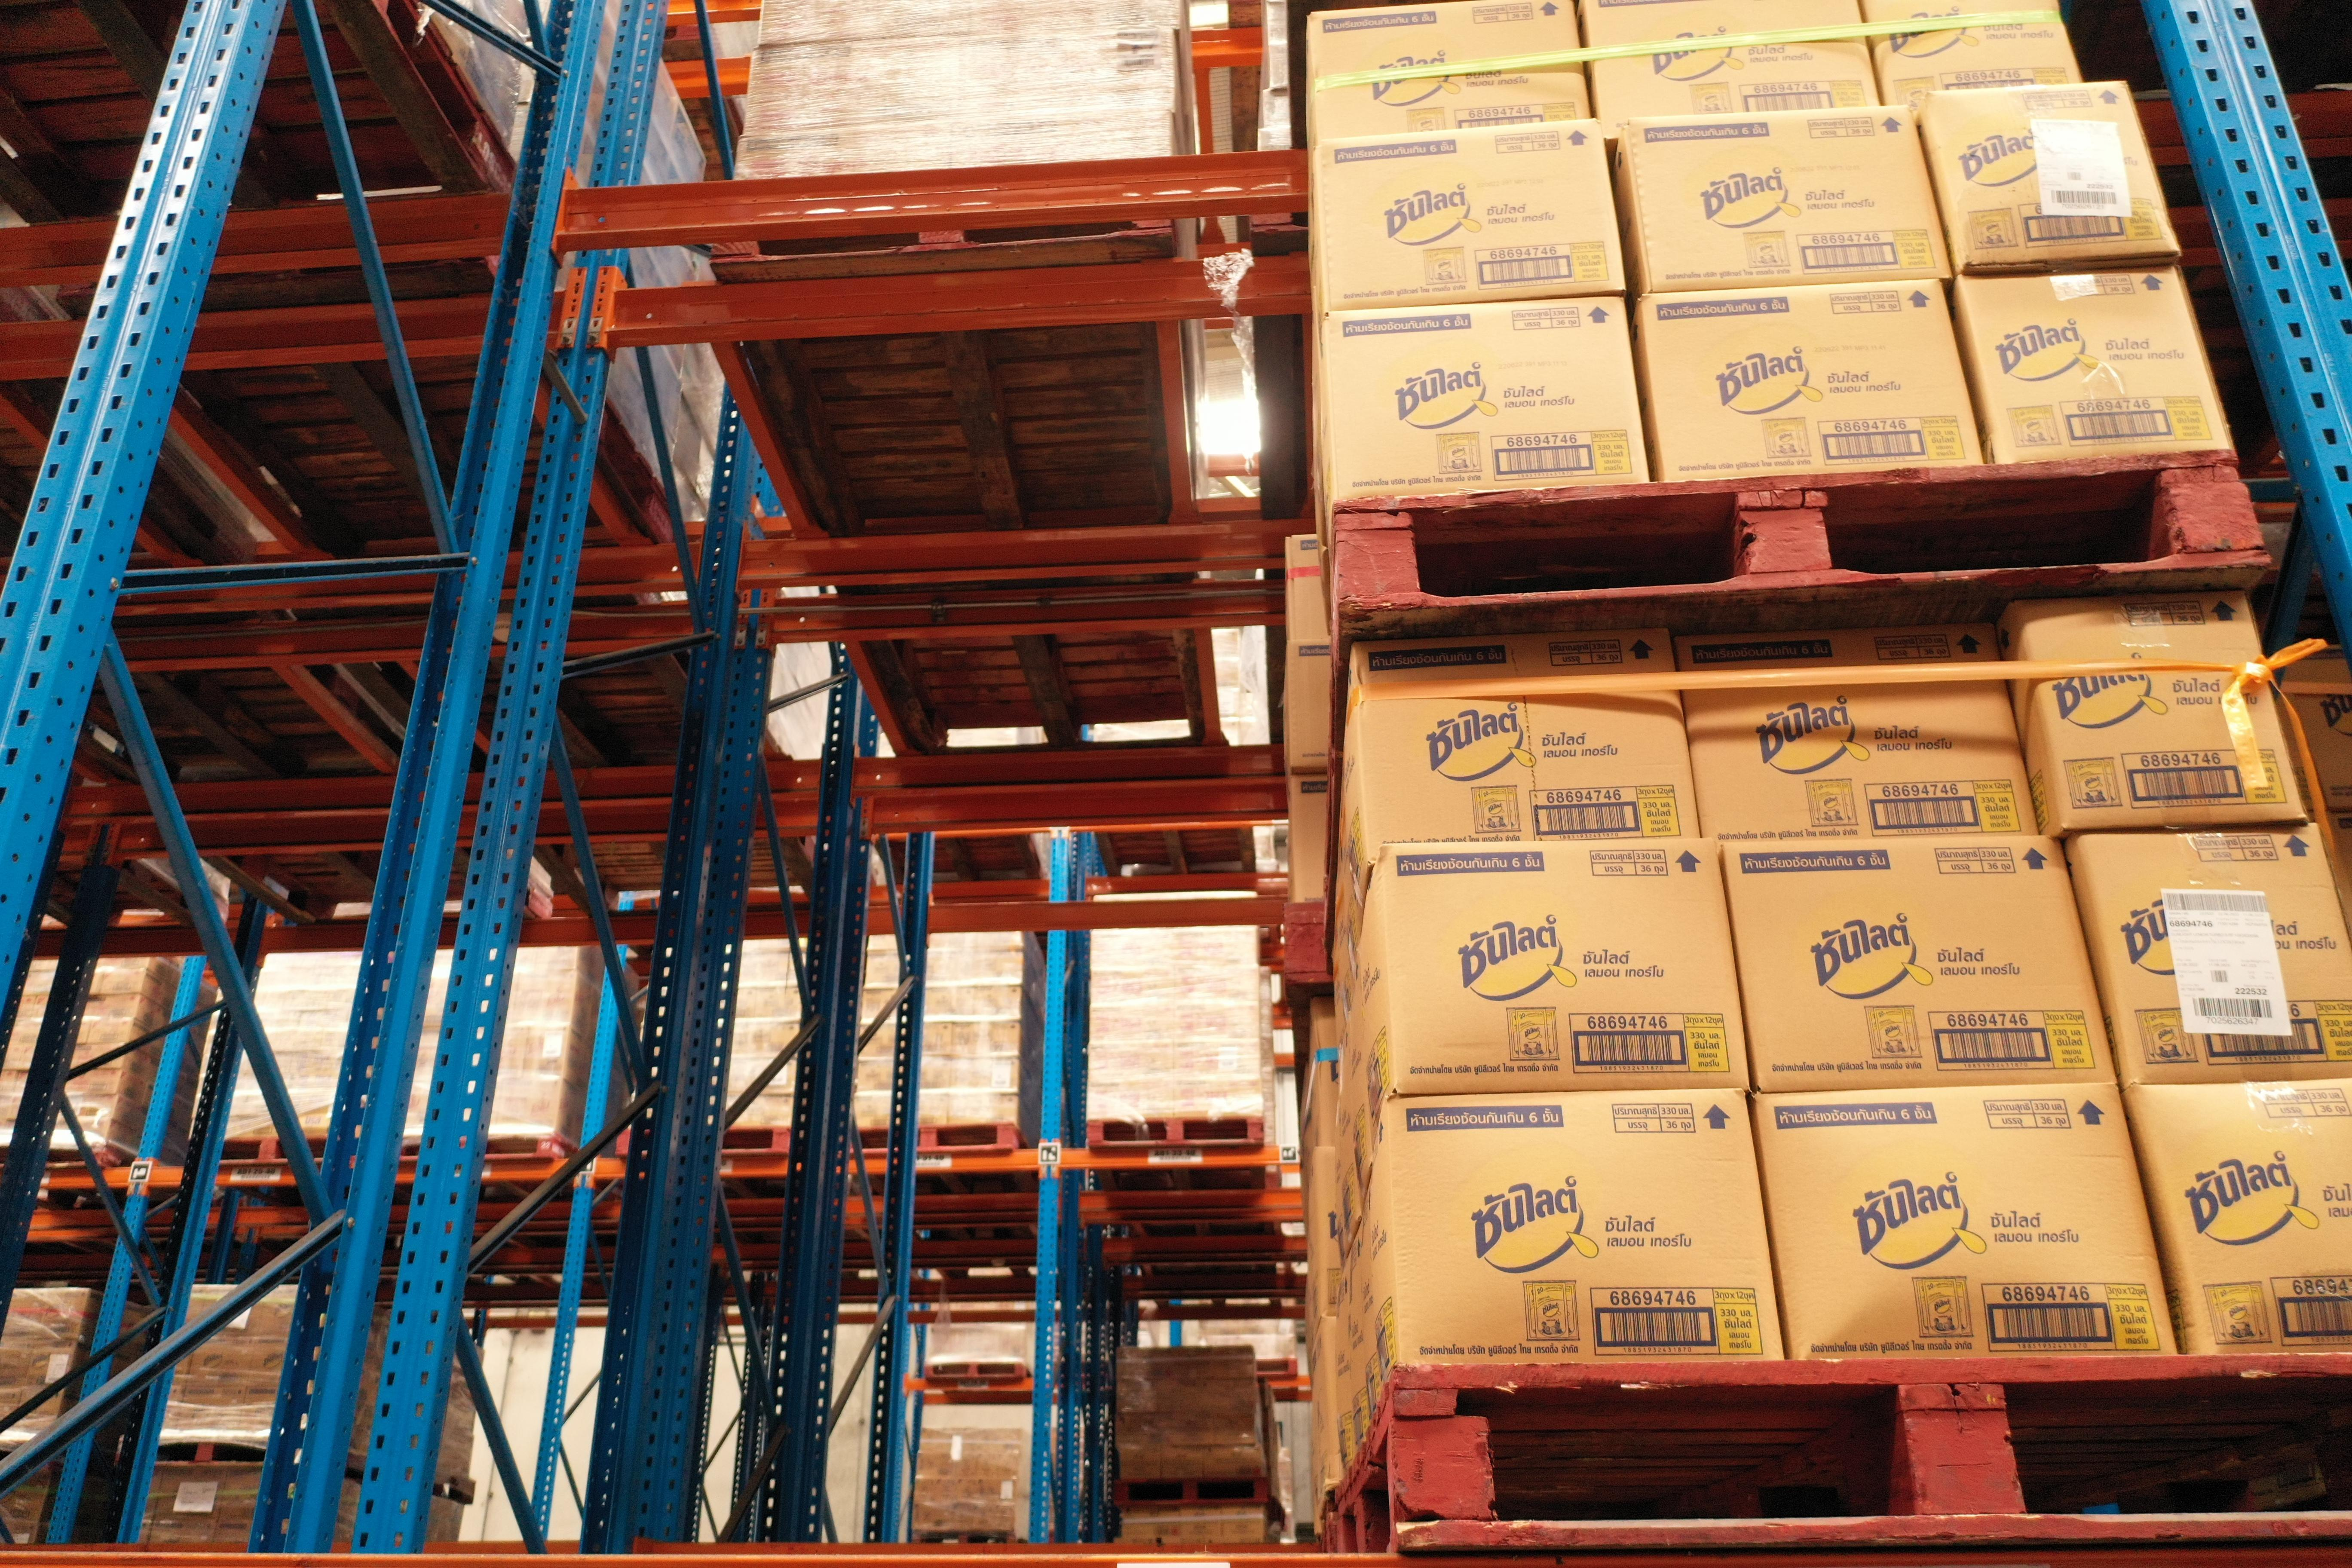-: (1755, 1083, 2182, 1358), (1391, 1090, 1788, 1370), (1717, 836, 2116, 1092), (1379, 836, 1752, 1094), (1351, 628, 1697, 864), (1671, 625, 2044, 842), (2070, 822, 2352, 1087), (1634, 275, 1986, 481), (2012, 591, 2312, 831), (1326, 294, 1652, 509), (2130, 1080, 2352, 1358), (1626, 101, 1958, 285), (1318, 121, 1627, 310), (1958, 264, 2236, 464), (1925, 82, 2180, 271), (1311, 0, 1592, 136)
